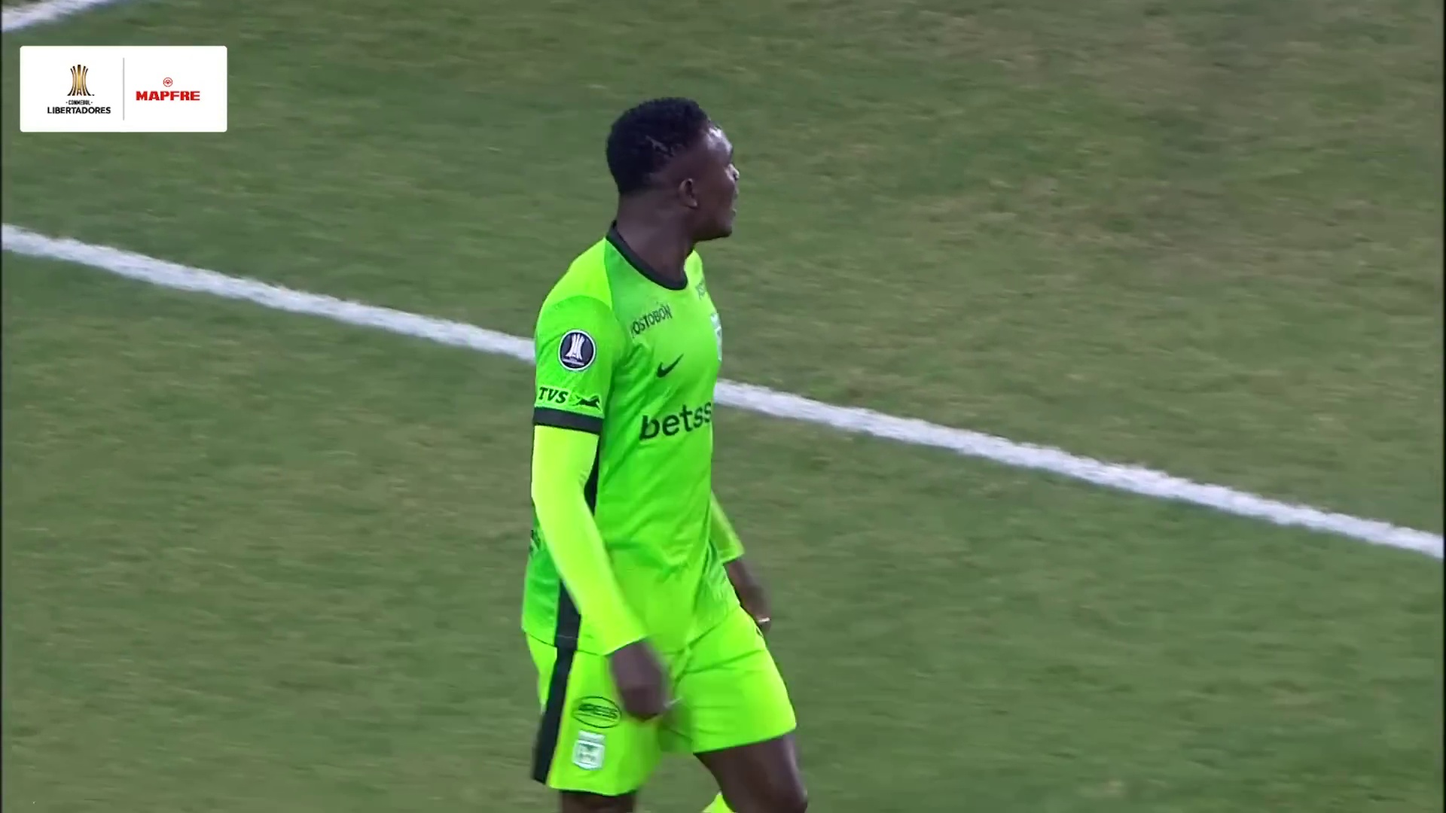player: (468, 86, 831, 810)
